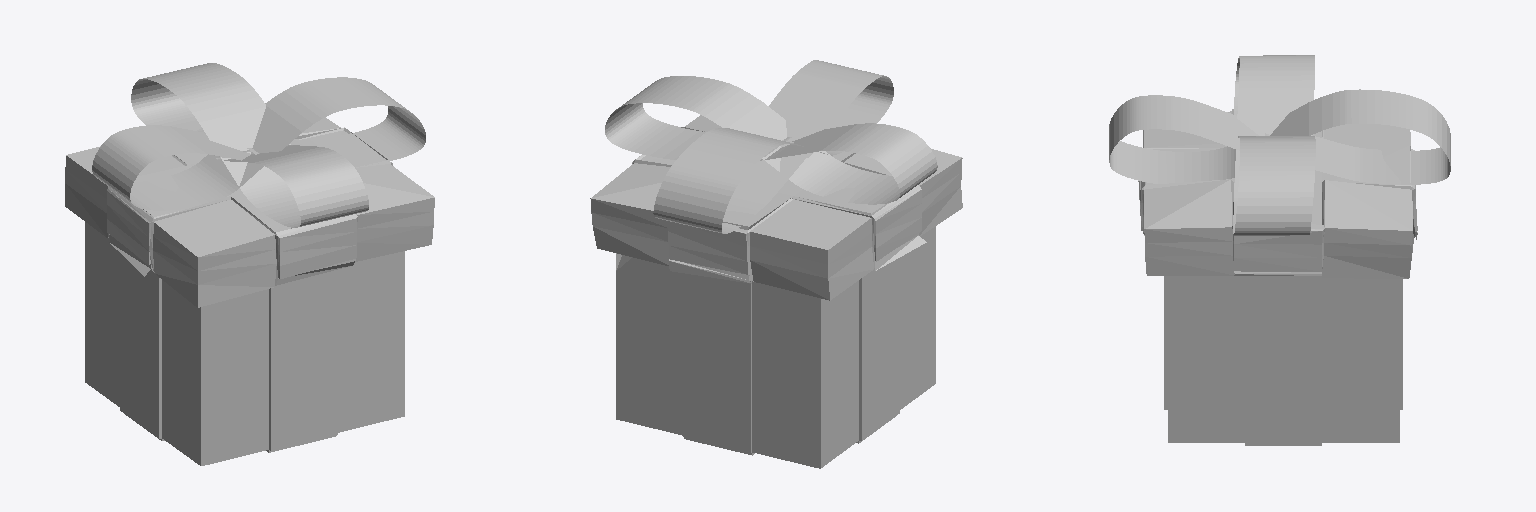
File: gift.obj
The picture shows the model from 3 angles: view 1: azimuth 30°, elevation 25°; view 2: azimuth 150°, elevation 25°; view 3: azimuth 270°, elevation 25°; orthographic projection.
Visible parts, largest first — view 1: Cube, Cube_1, Cube_1_Extrude_NURBS, Cube_1_Extrude_NURBS_1; view 2: Cube, Cube_1, Cube_1_Extrude_NURBS, Cube_1_Extrude_NURBS_1; view 3: Cube, Cube_1, Cube_1_Extrude_NURBS_1, Cube_1_Extrude_NURBS.
Part boxes in pixels (x1,y1,x2,y2): Cube: (85, 222, 404, 465); Cube_1: (65, 117, 434, 307); Cube_1_Extrude_NURBS: (92, 77, 425, 210); Cube_1_Extrude_NURBS_1: (131, 63, 368, 227); Cube: (616, 226, 935, 468); Cube_1: (590, 115, 962, 300); Cube_1_Extrude_NURBS: (605, 76, 937, 204); Cube_1_Extrude_NURBS_1: (653, 60, 893, 233); Cube: (1164, 276, 1402, 445); Cube_1: (1138, 109, 1417, 278); Cube_1_Extrude_NURBS_1: (1109, 89, 1450, 184); Cube_1_Extrude_NURBS: (1233, 55, 1315, 235).
Bounding box in the file's own units: 456 × 428 × 456.